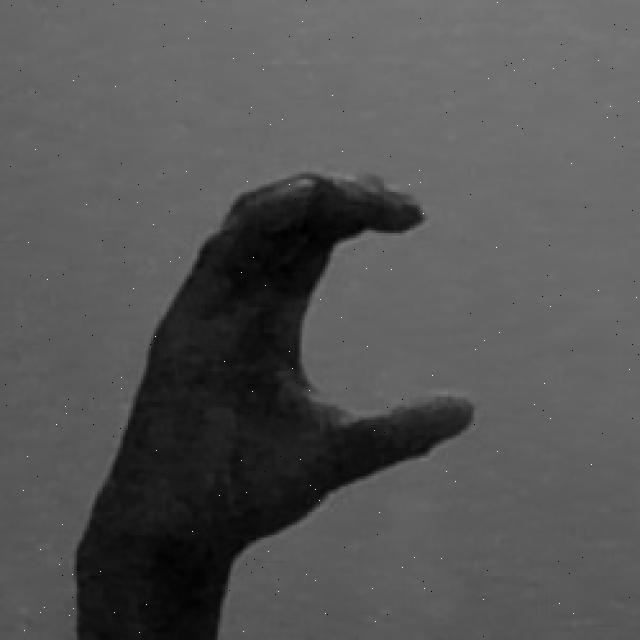C: (72, 166, 477, 640)
